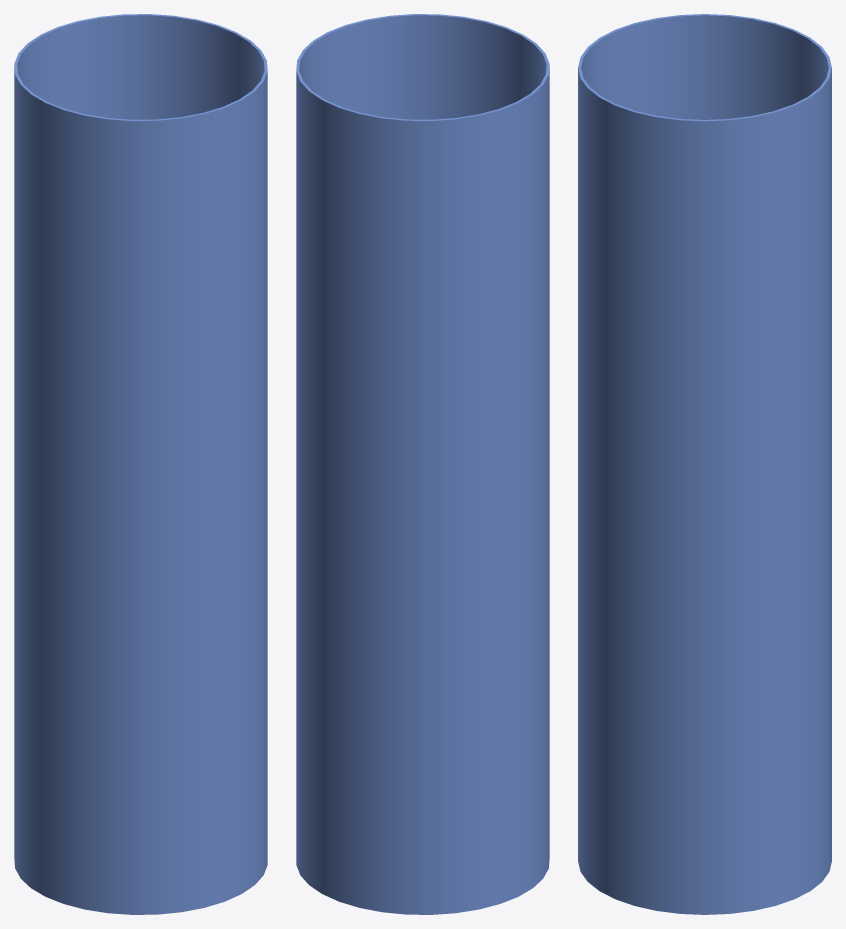
Rendered from üstboru.fbx.
3 views of the same model, side by side, from view 1: azimuth 30°, elevation 25°; view 2: azimuth 150°, elevation 25°; view 3: azimuth 270°, elevation 25° (orthographic).
Visible parts, largest first — view 1: Cylinder.004; view 2: Cylinder.004; view 3: Cylinder.004.
Part boxes in pixels (left/top/right/bottom): Cylinder.004: left=14, top=14, right=267, bottom=914; Cylinder.004: left=296, top=14, right=549, bottom=914; Cylinder.004: left=578, top=14, right=831, bottom=914.
Bounding box in the file's own units: 157 × 541 × 157.
